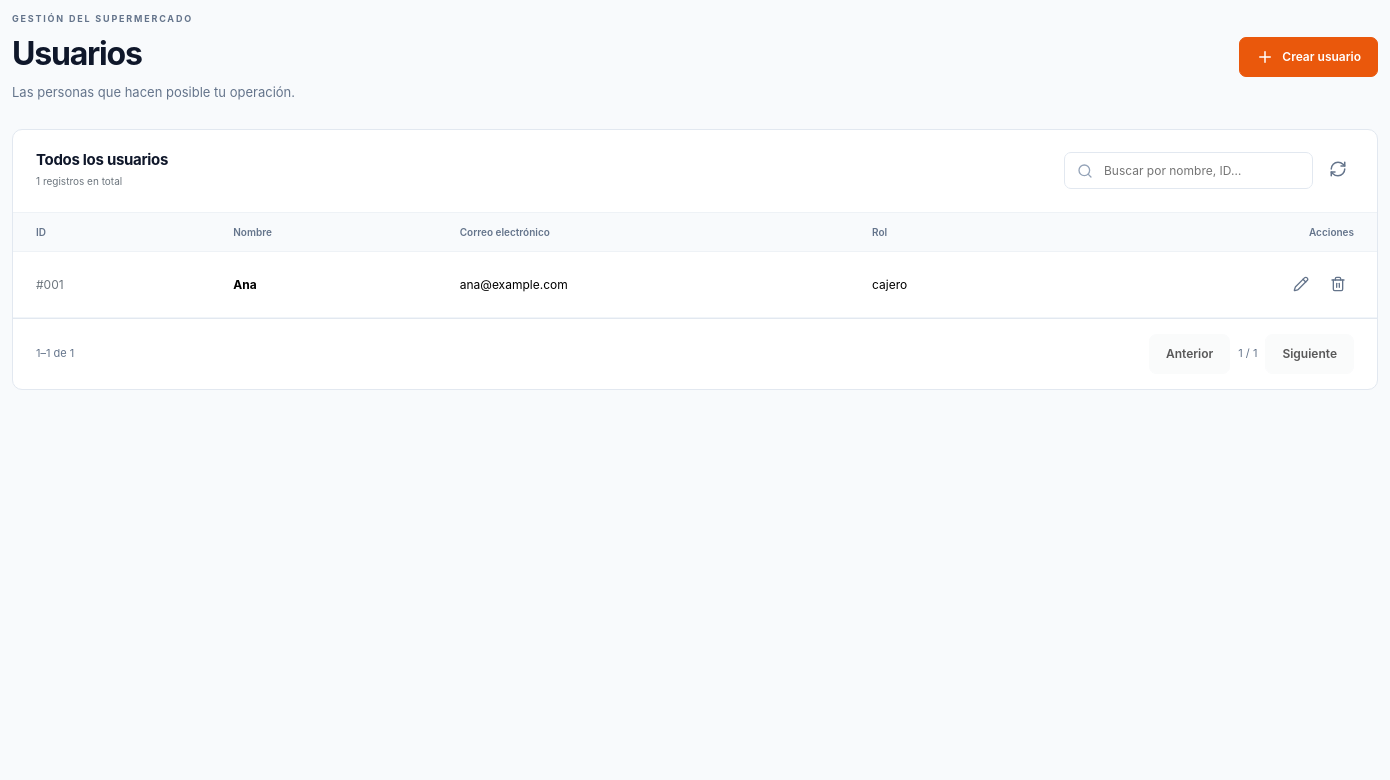
Test: Interacciones de la SPA › busca registros y muestra resultados vacíos
Expected: the text "Ana" is shown, x1=233 y1=277 x2=257 y2=292
Type "desconocido" into the field named "Buscar usuarios". click: (1201, 171)
box: x1=1102 y1=160 x2=1300 y2=181
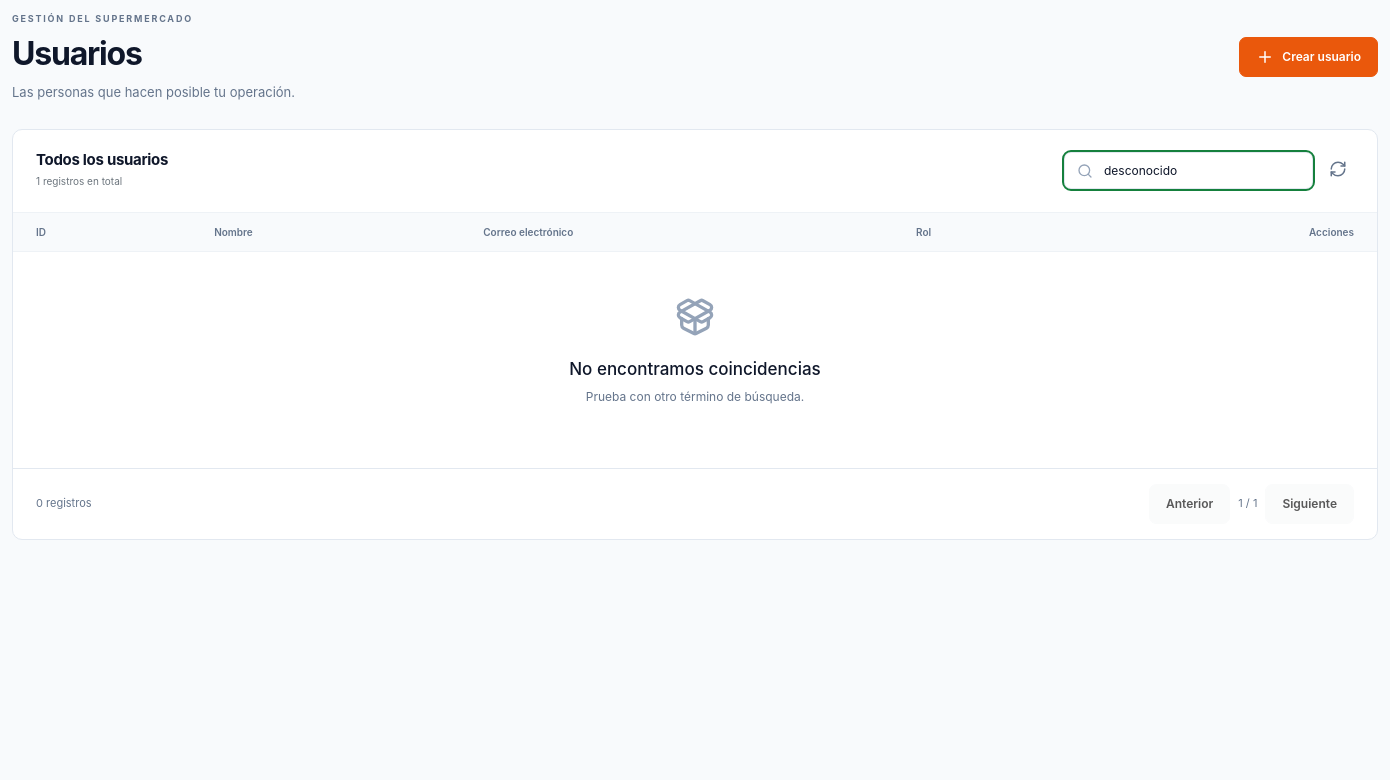
Expected: the heading "No encontramos coincidencias" is shown, x1=569 y1=359 x2=821 y2=379
